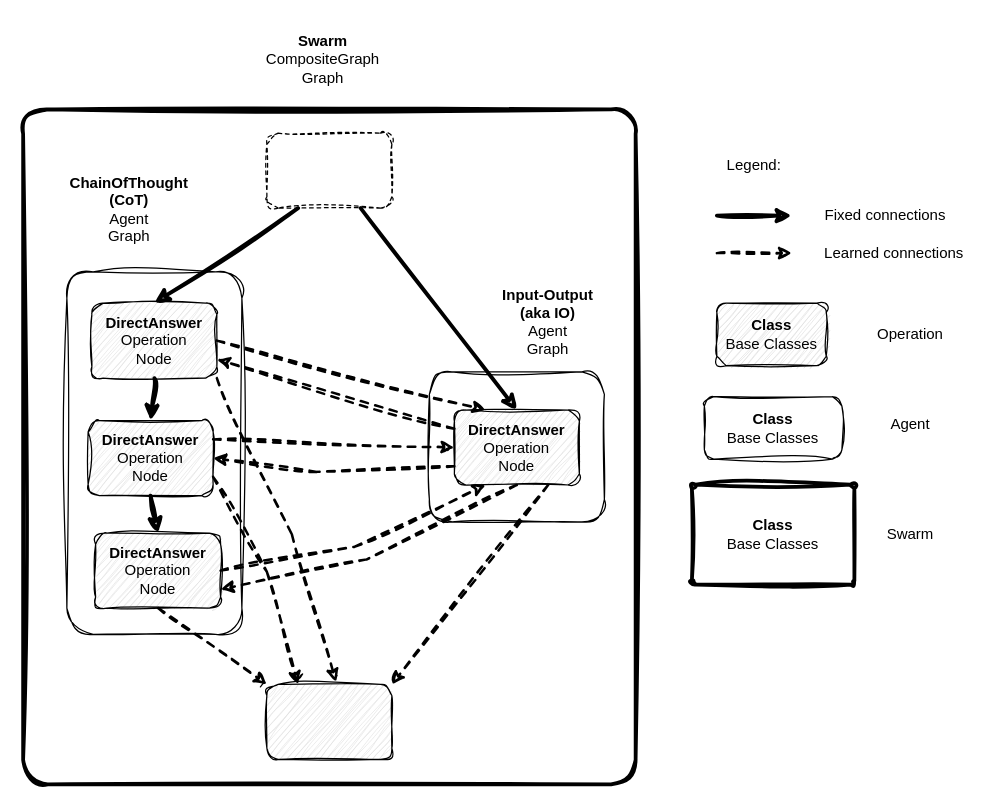
The diagram is 998 pixels wide and 808 high, and some of its shapes have lost their labels. The centre of each missing label's shape, as x and y in pixels:
"FinalDecision Operation Node" goes at pixel 329 721.
"Reference to all agents' input nodes" goes at pixel 329 170.
